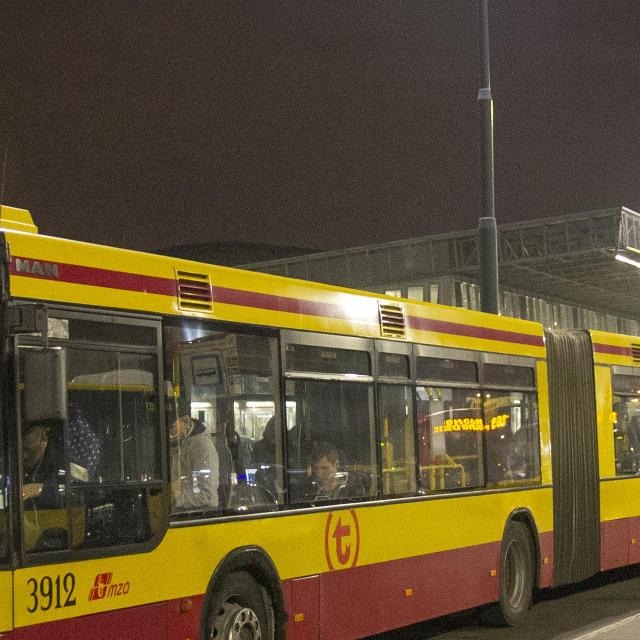Bus: (0, 206, 640, 640)
